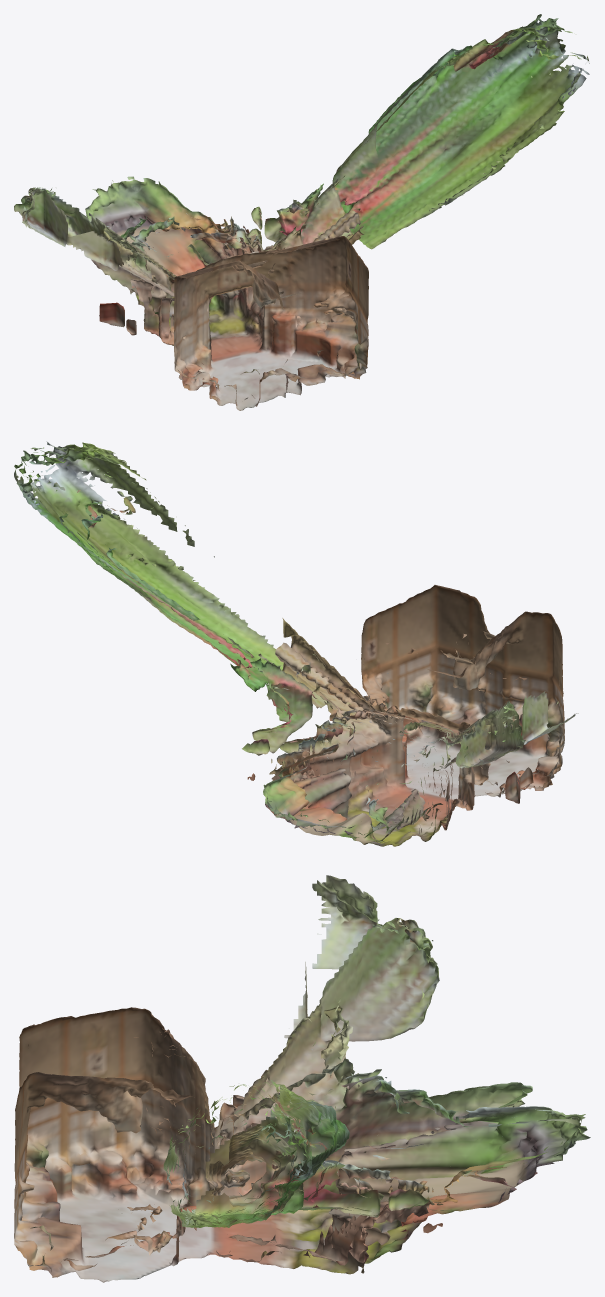
Rendered from ac-onsen-garden_collider.glb.
3 views of the same model, one above another, from view 1: azimuth 30°, elevation 25°; view 2: azimuth 150°, elevation 25°; view 3: azimuth 270°, elevation 25° (orthographic). The views are drawn at different scales.
Parts seen in each view (by area): view 1: world; view 2: world; view 3: world.
Part boxes in pixels (box(x1,y1,x2,y2)): world: box(14, 14, 589, 410); world: box(14, 441, 578, 846); world: box(14, 875, 590, 1282).
Bounding box in the file's own units: 23.12 × 10.47 × 15.06.
